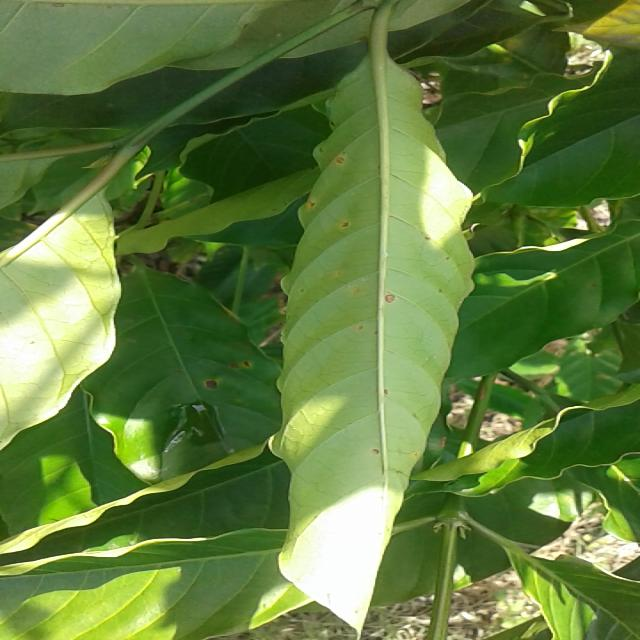Enfermedad-Roya: (268, 60, 475, 634)
